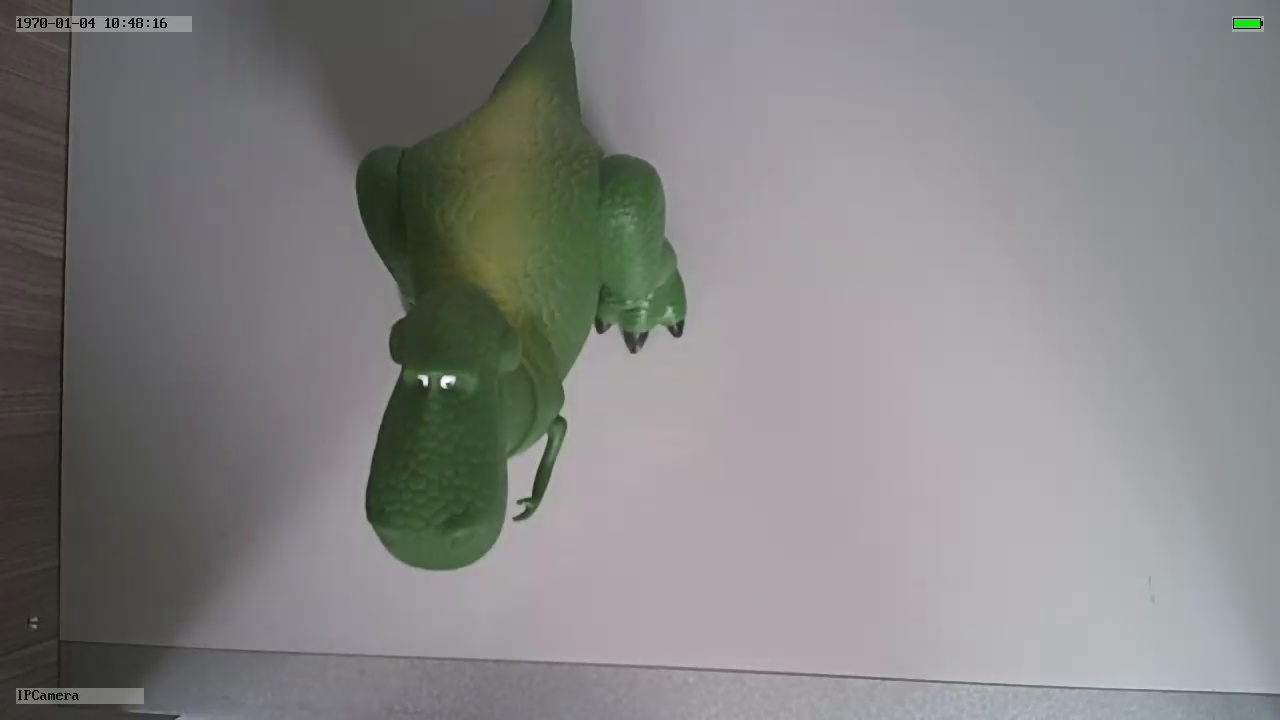rex: (358, 60, 691, 570)
